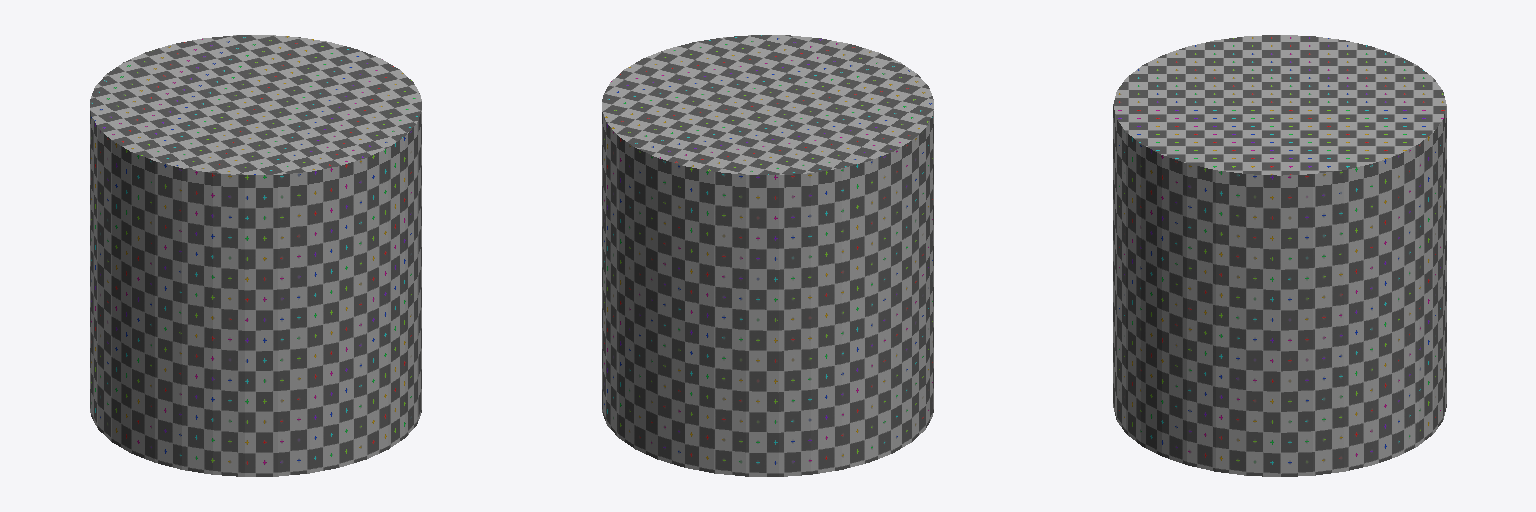
3 views of the same model, side by side, from view 1: azimuth 30°, elevation 25°; view 2: azimuth 150°, elevation 25°; view 3: azimuth 270°, elevation 25° (orthographic).
Visible parts, largest first — view 1: cylinder; view 2: cylinder; view 3: cylinder.
Boxes of the visible parts, x1=… form: cylinder: x1=90, y1=35, x2=421, y2=476; cylinder: x1=602, y1=35, x2=933, y2=476; cylinder: x1=1113, y1=35, x2=1446, y2=476.
Bounding box in the file's own units: 3.36 × 3.35 × 3.36.
Materials: 1 (1 with a texture image).